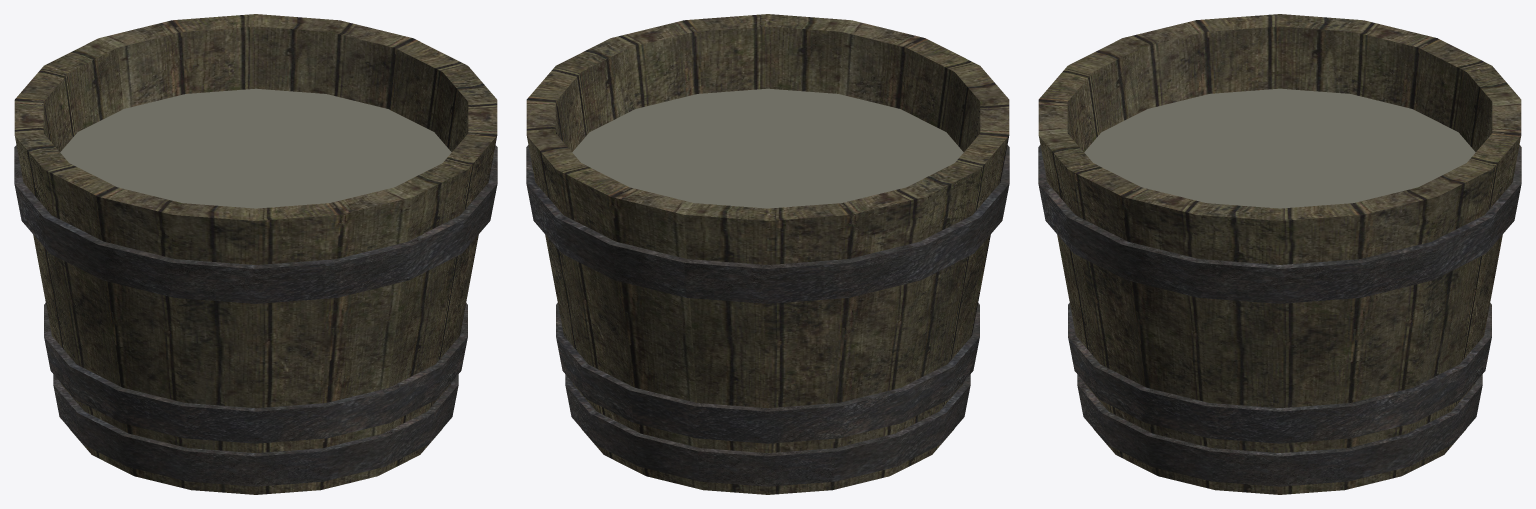
Rendered from bucket.fbx.
3 renders of one model, left to right at view 1: azimuth 30°, elevation 25°; view 2: azimuth 150°, elevation 25°; view 3: azimuth 270°, elevation 25°, orthographic.
Visible parts, largest first — view 1: MBS-Bucket_576.Shape; view 2: MBS-Bucket_576.Shape; view 3: MBS-Bucket_576.Shape.
Part boxes in pixels (x1,y1,x2,y2): MBS-Bucket_576.Shape: [14, 14, 497, 494]; MBS-Bucket_576.Shape: [526, 14, 1009, 494]; MBS-Bucket_576.Shape: [1038, 14, 1521, 494].
Bounding box in the file's own units: 59.87 × 40.02 × 58.96.
Materials: 3 (2 with a texture image).
